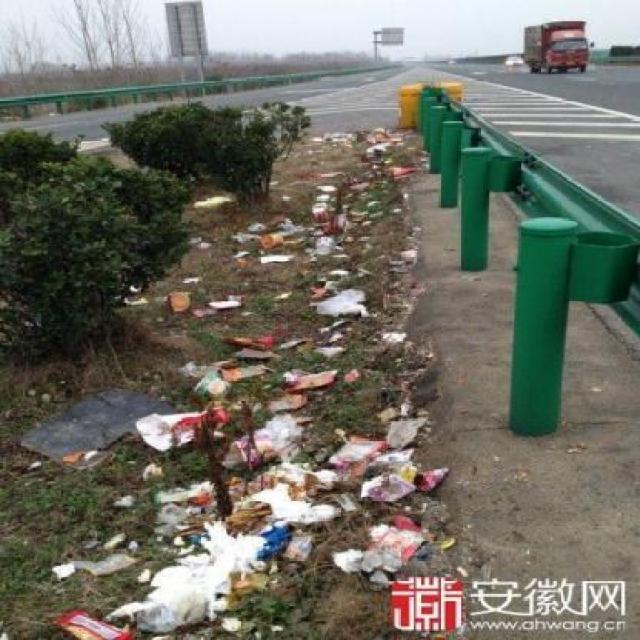garbage: (234, 428, 344, 516), (200, 340, 338, 408), (362, 442, 424, 563), (213, 506, 332, 566), (139, 565, 223, 626), (308, 291, 399, 321), (58, 606, 136, 639), (243, 219, 308, 253), (163, 291, 244, 310), (315, 183, 340, 228), (362, 126, 399, 154), (314, 235, 340, 260)
